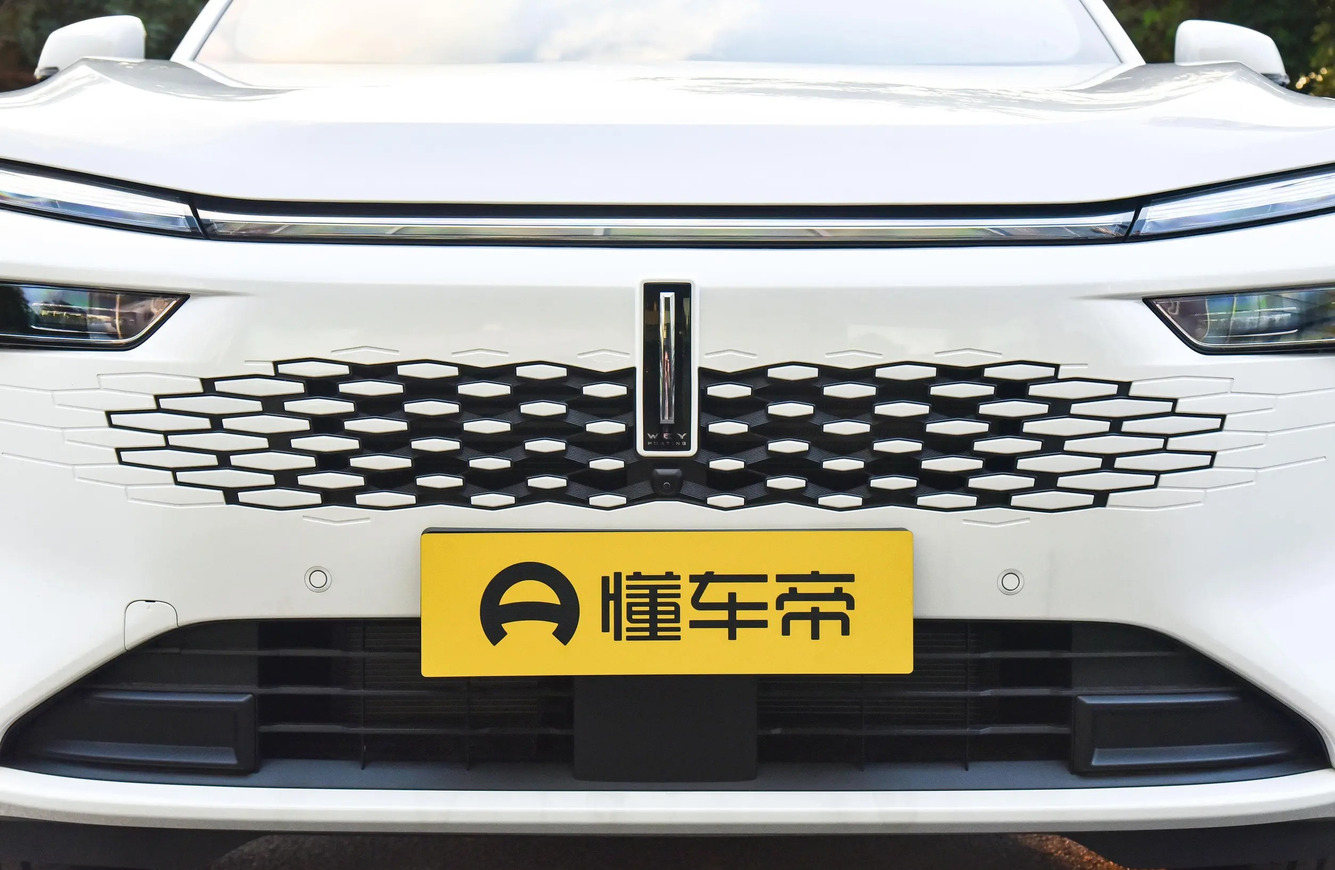WEY: (637, 277, 697, 456)
